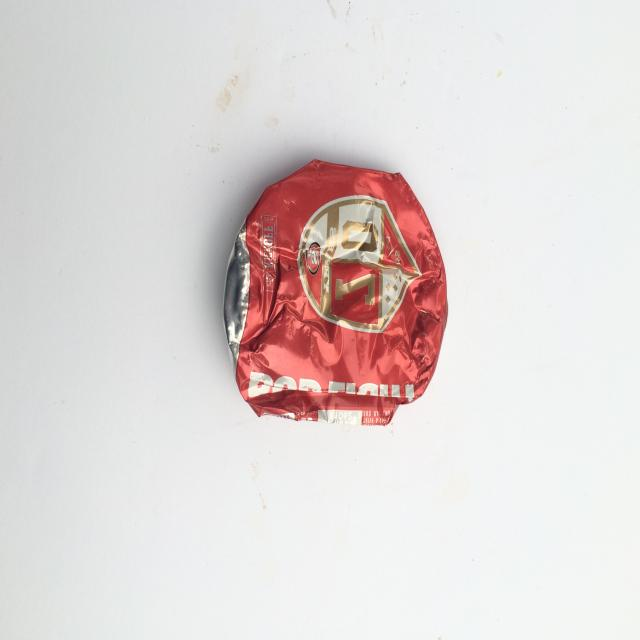metal: (222, 158, 448, 426)
